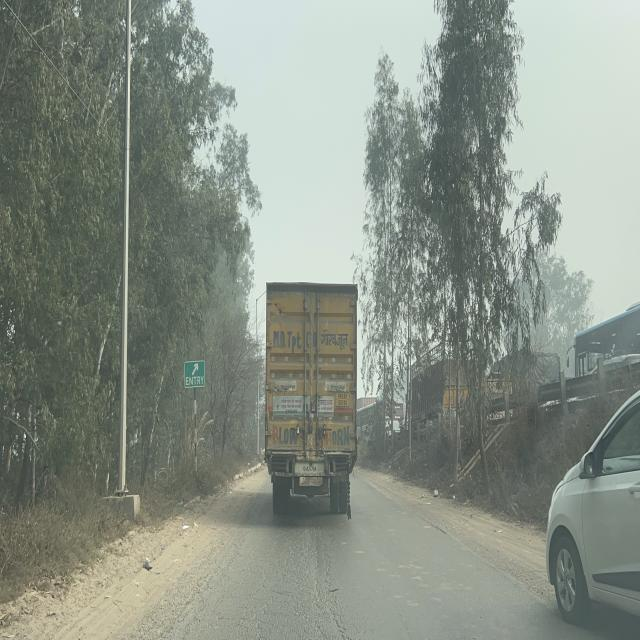GENERAL: (184, 361, 206, 388)
